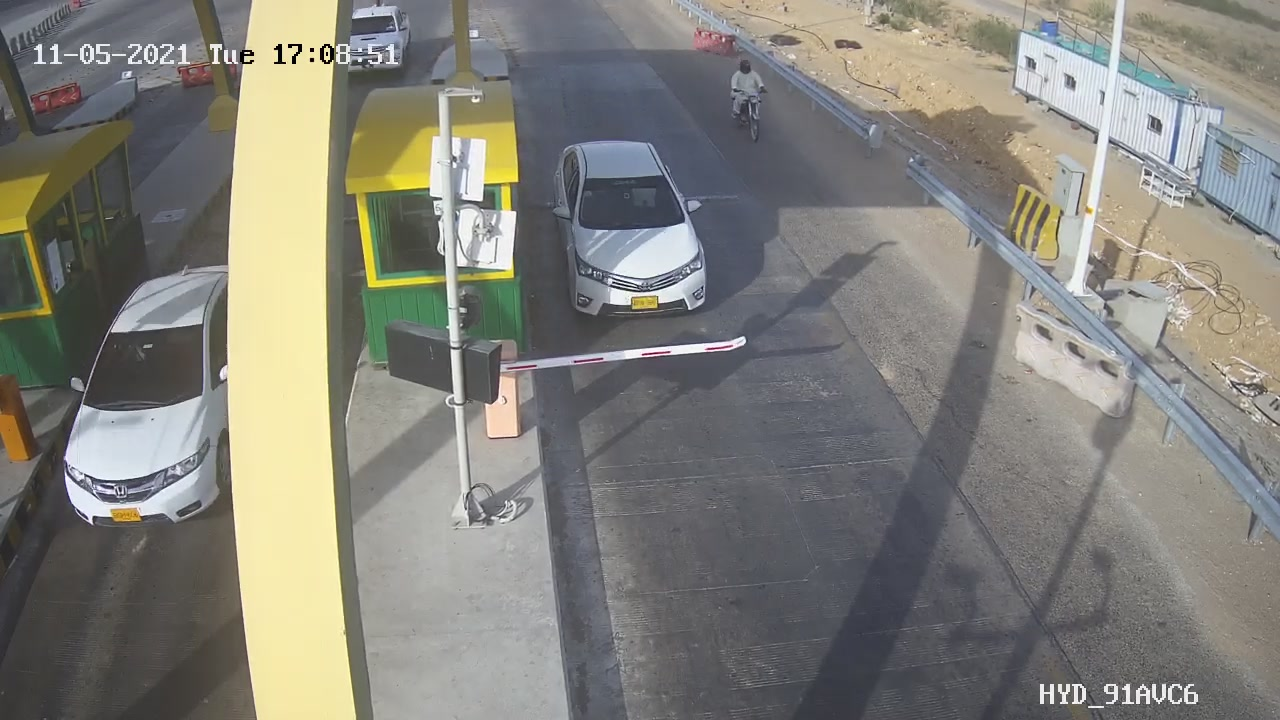F1: (533, 118, 740, 342)
